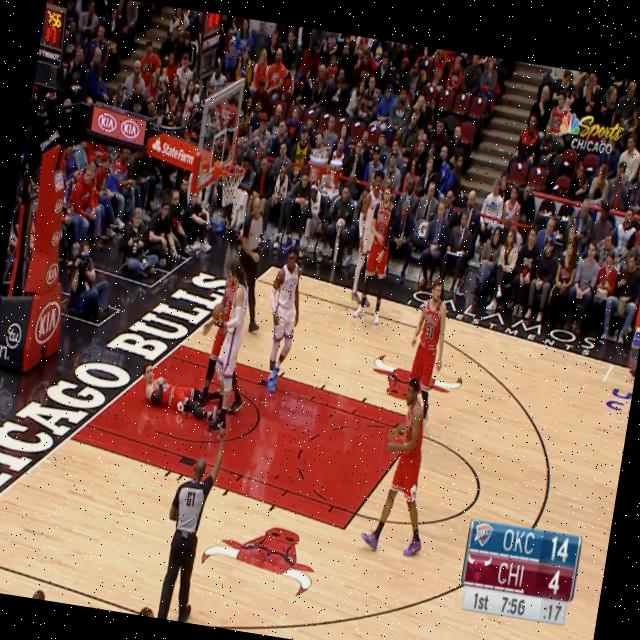foul: (138, 247, 266, 438)
